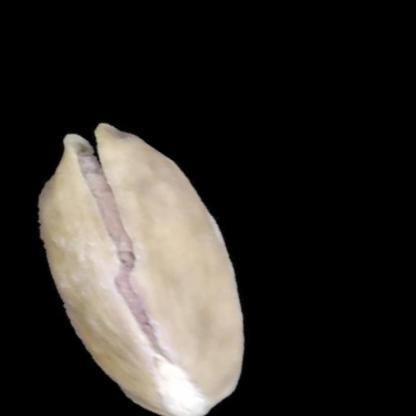pistachio: (31, 122, 254, 416)
